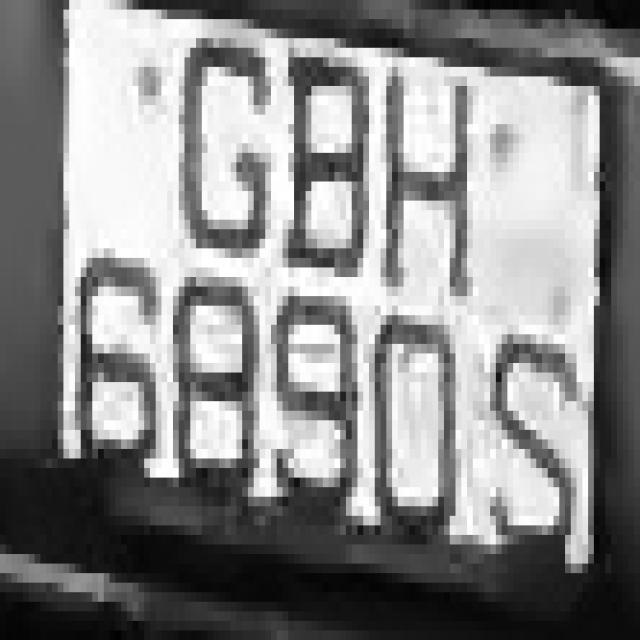0: (364, 267, 462, 554)
6: (69, 220, 162, 516)
8: (173, 239, 265, 525)
9: (254, 239, 363, 544)
B: (276, 28, 381, 286)
G: (167, 9, 271, 268)
H: (375, 47, 484, 306)
S: (479, 296, 588, 573)
